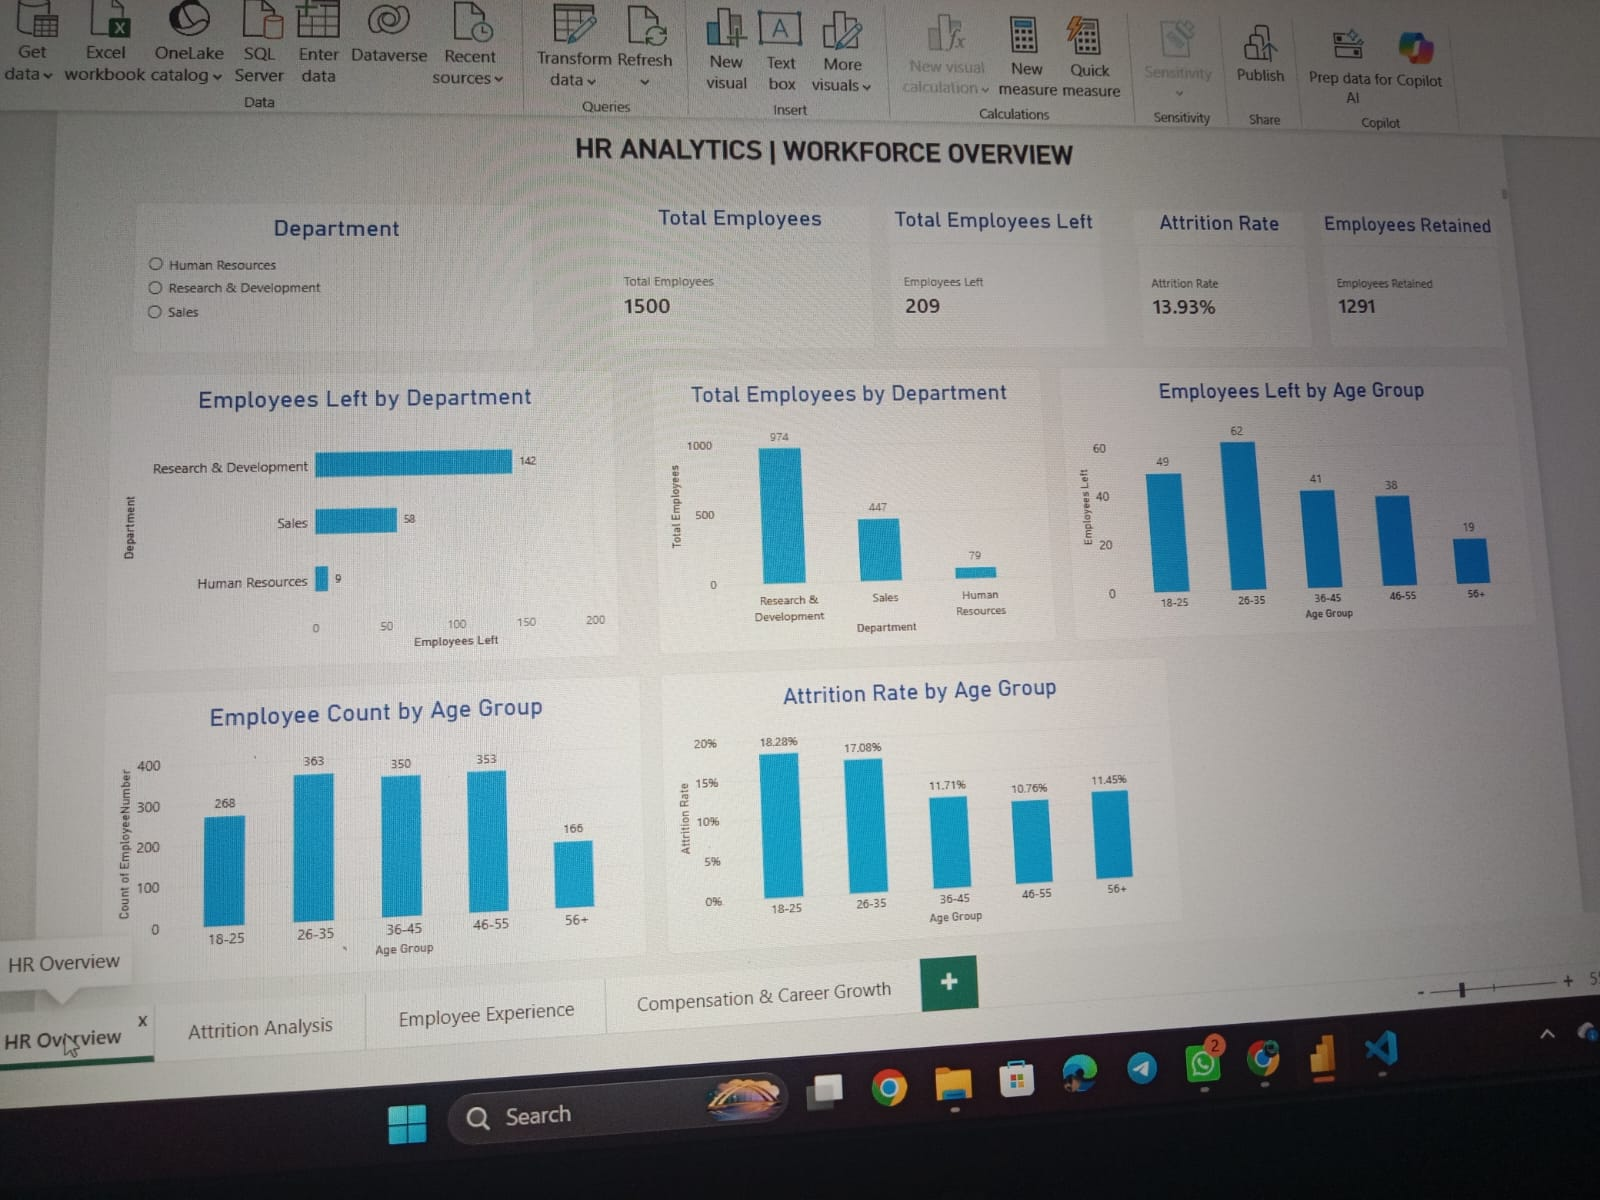

This screenshot's page, from the dashboard's own definition file:
{"tool":"powerbi","page":{"name":"HR Overview","canvas":[1920,1080],"ordinal":0},"visuals":[{"type":"cardVisual","title":"Total Employees","fields":{"Data":["hr_analytics employees.Total Employees"]},"box":[672,120,336,192],"z":0},{"type":"cardVisual","title":"Total Employees Left","fields":{"Data":["hr_analytics employees.Employees Left"]},"box":[1032,120,288,192],"z":1},{"type":"cardVisual","title":"Attrition Rate","fields":{"Data":["hr_analytics employees.Attrition Rate"]},"box":[1368,120,240,192],"z":2},{"type":"cardVisual","title":"Employees Retained","fields":{"Data":["hr_analytics employees.Employees Retained"]},"box":[1632,120,264,192],"z":3},{"type":"clusteredBarChart","fields":{"Category":["hr_analytics employees.Department"],"Y":["hr_analytics employees.Employees Left"]},"box":[72,336,600,360],"z":4},{"type":"clusteredColumnChart","fields":{"Category":["hr_analytics employees.Department"],"Y":["hr_analytics employees.Total Employees"]},"box":[720,336,504,360],"z":5},{"type":"clusteredColumnChart","fields":{"Category":["hr_analytics employees.Age Group"],"Y":["hr_analytics employees.Employees Left"]},"box":[1248,336,648,360],"z":6},{"type":"clusteredColumnChart","title":"Employee Count by Age Group","fields":{"Category":["hr_analytics employees.Age Group"],"Y":["CountNonNull(hr_analytics employees.EmployeeNumber)"]},"box":[72,720,624,336],"z":7},{"type":"clusteredColumnChart","title":"Attrition Rate by Age Group","fields":{"Category":["hr_analytics employees.Age Group"],"Y":["hr_analytics employees.Attrition Rate"]},"box":[720,720,648,336],"z":8},{"type":"listSlicer","fields":{"Values":["hr_analytics employees.Department"]},"box":[96,120,480,192],"z":9},{"type":"textbox","title":"HR ANALYTICS | WORKFORCE OVERVIEW","box":[0,24,1920,72],"z":10}]}

Visuals, with their boxes on the page's 1920x1080 design canvas (x1, y1, x2, y2). These are canvas units, not pixel positions in the 1600x1200 screenshot, which may show the page scaled, cropped or inside an application window:
"Total Employees" cardVisual: BBox(672, 120, 1008, 312)
"Total Employees Left" cardVisual: BBox(1032, 120, 1320, 312)
"Attrition Rate" cardVisual: BBox(1368, 120, 1608, 312)
"Employees Retained" cardVisual: BBox(1632, 120, 1896, 312)
clusteredBarChart - hr_analytics employees.Department x hr_analytics employees.Employees Left: BBox(72, 336, 672, 696)
clusteredColumnChart - hr_analytics employees.Department x hr_analytics employees.Total Employees: BBox(720, 336, 1224, 696)
clusteredColumnChart - hr_analytics employees.Age Group x hr_analytics employees.Employees Left: BBox(1248, 336, 1896, 696)
"Employee Count by Age Group" clusteredColumnChart: BBox(72, 720, 696, 1056)
"Attrition Rate by Age Group" clusteredColumnChart: BBox(720, 720, 1368, 1056)
listSlicer - hr_analytics employees.Department: BBox(96, 120, 576, 312)
"HR ANALYTICS | WORKFORCE OVERVIEW" textbox: BBox(0, 24, 1920, 96)
